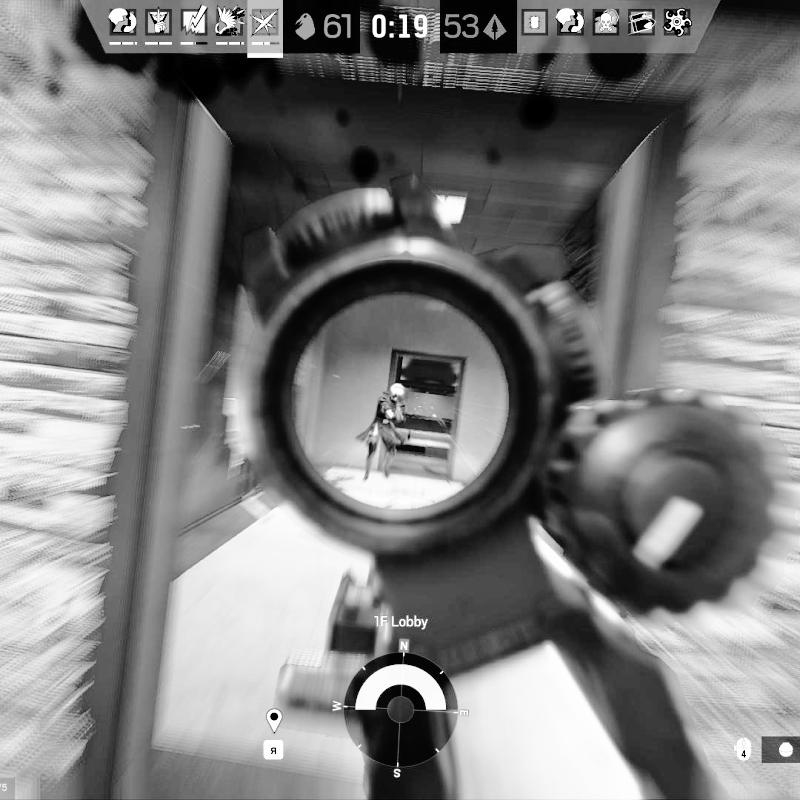Character: (356, 379, 408, 484)
Head: (389, 382, 405, 401)
